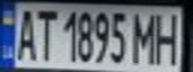1: (57, 7, 78, 62)
5: (109, 8, 130, 64)
8: (75, 7, 93, 63)
9: (90, 7, 112, 64)
A: (12, 5, 39, 62)
H: (151, 9, 187, 65)
M: (130, 8, 160, 65)
T: (33, 5, 57, 62)
